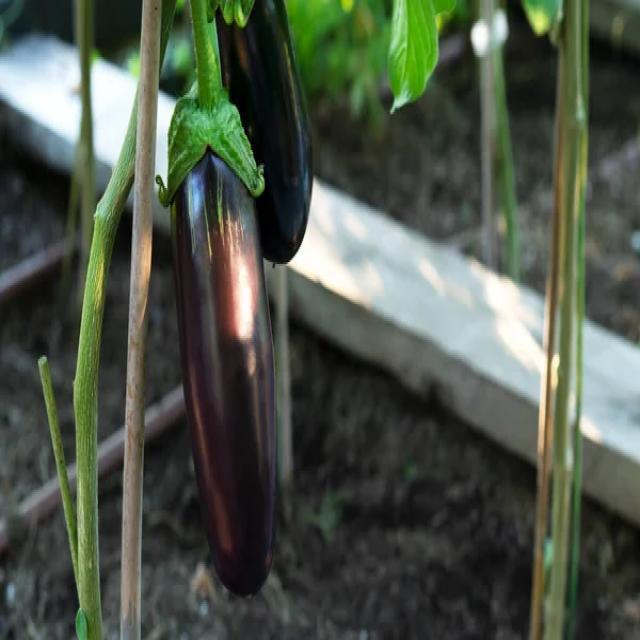Eggplant: (168, 50, 279, 597), (210, 0, 315, 259)
